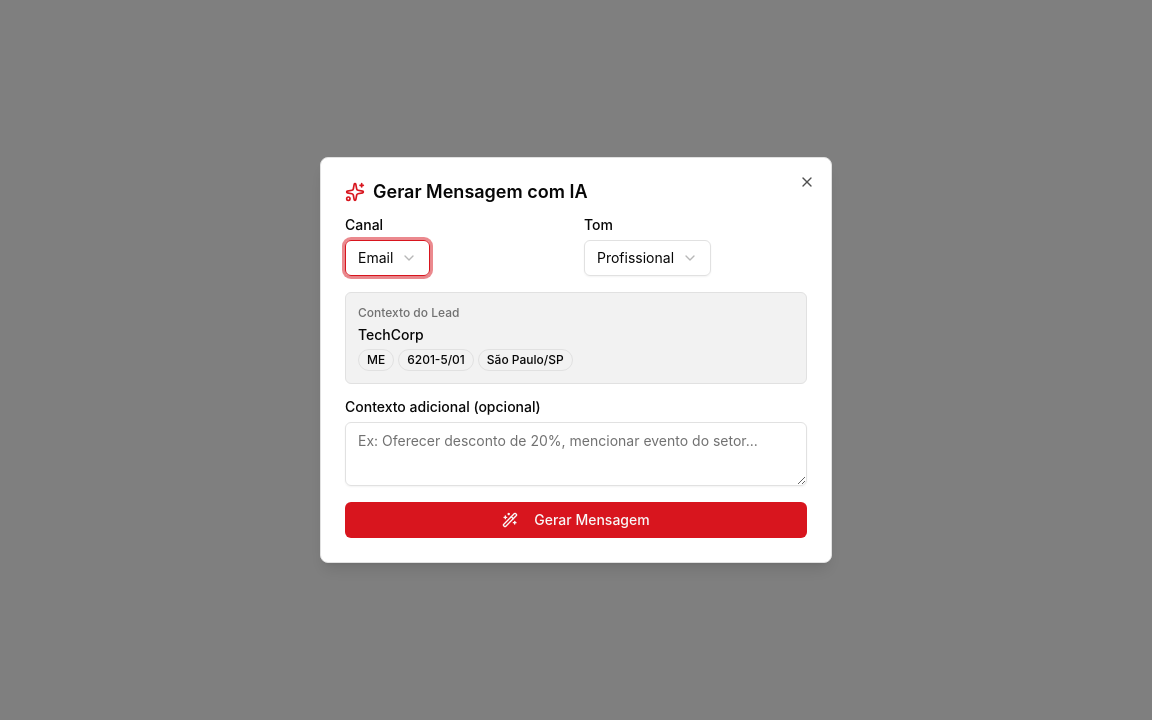
Test: AIMessageGenerator › should show usage info after generation
Click the button "Gerar Mensagem": (576,520) [345, 502, 807, 538]
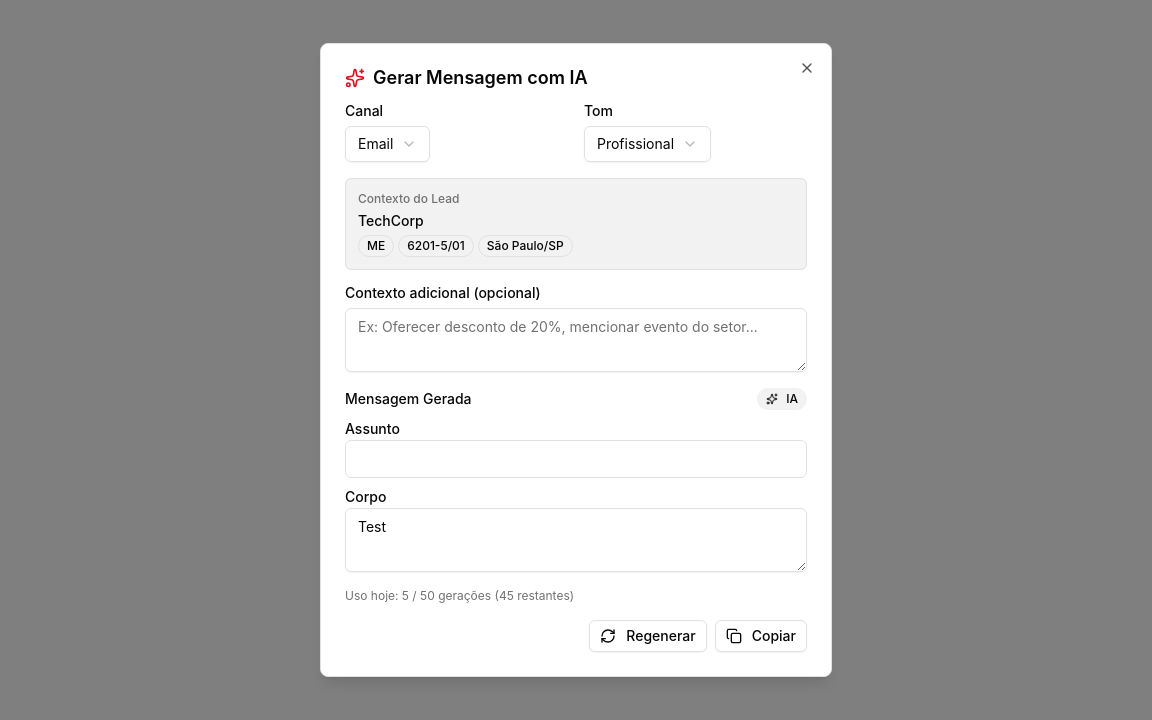
Check: the text "Uso hoje: 5 / 50 gerações (45 restantes)" is shown, box [345, 588, 574, 603]
